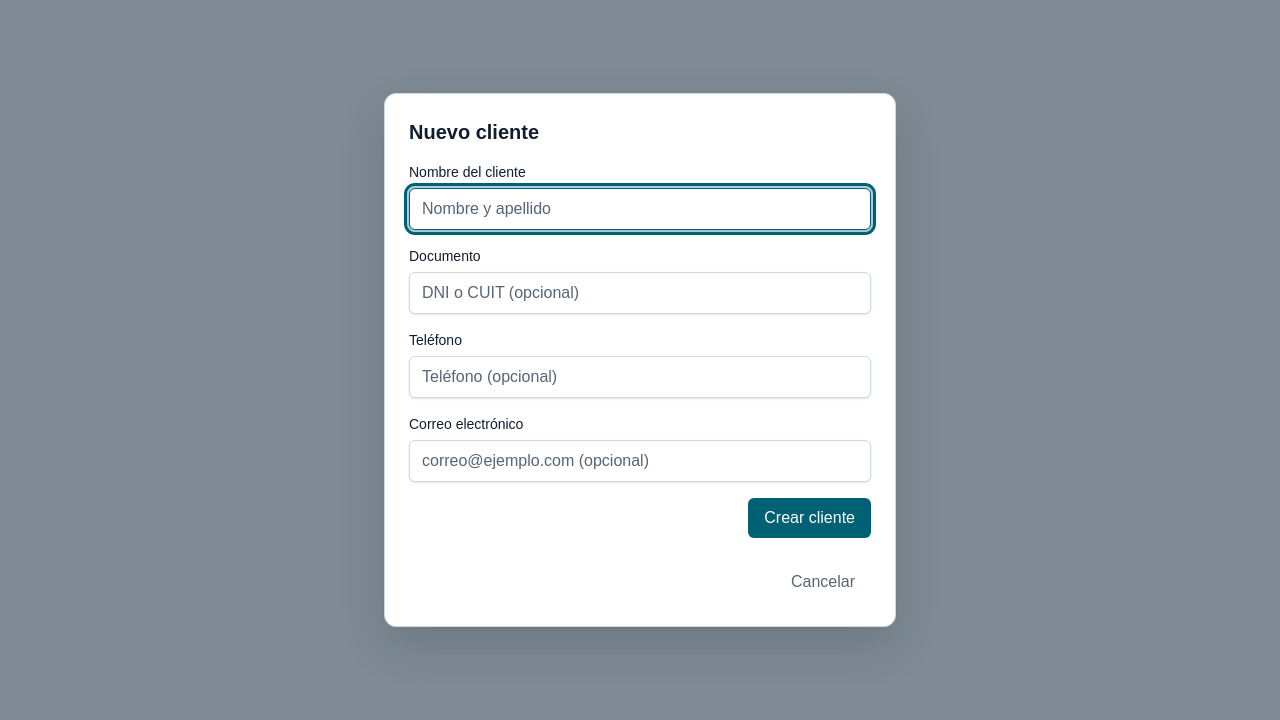
Test case: ClienteCreateModal › validates displayName with the domain schema before posting
This screenshot has width=1280, height=720.
Click the button "Crear cliente": coordinates (810, 518) x1=748 y1=498 x2=871 y2=538
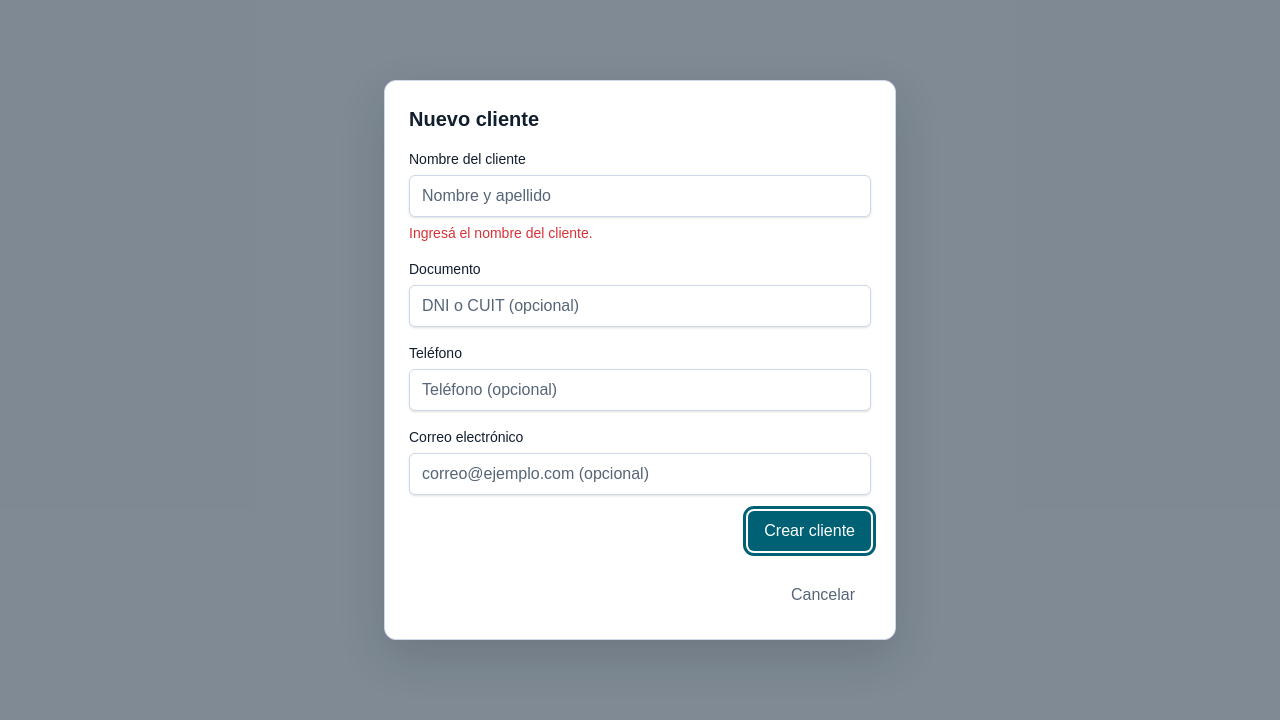
Now the message "Ingresá el nombre del cliente." is shown, box x1=409 y1=225 x2=593 y2=241
